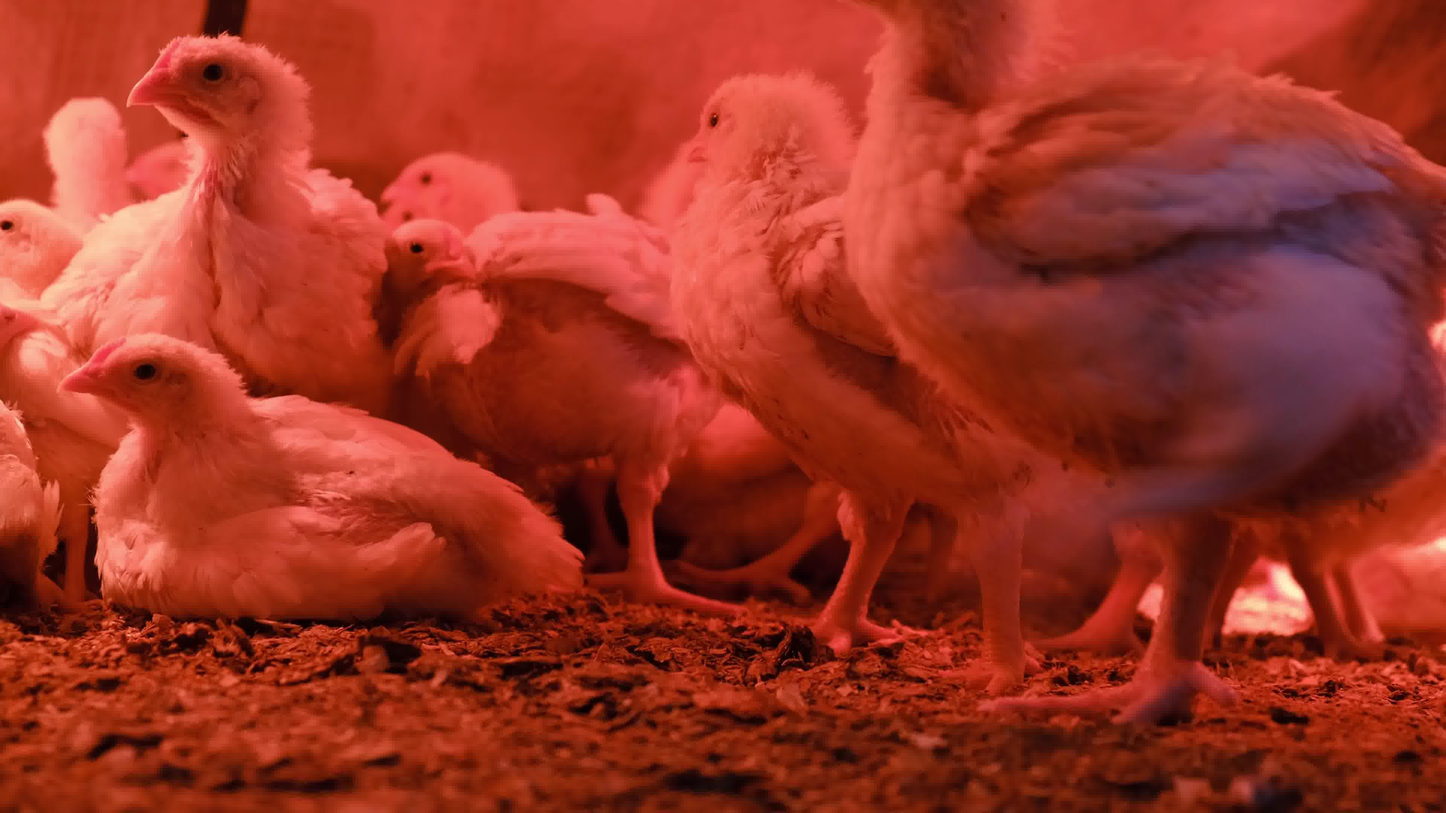AbNormal: (61, 332, 581, 614), (0, 288, 55, 610)
Normal: (853, 6, 1446, 736), (669, 70, 1072, 697), (376, 151, 750, 612), (42, 36, 392, 437), (0, 200, 134, 602), (373, 217, 479, 369), (46, 96, 132, 244)
